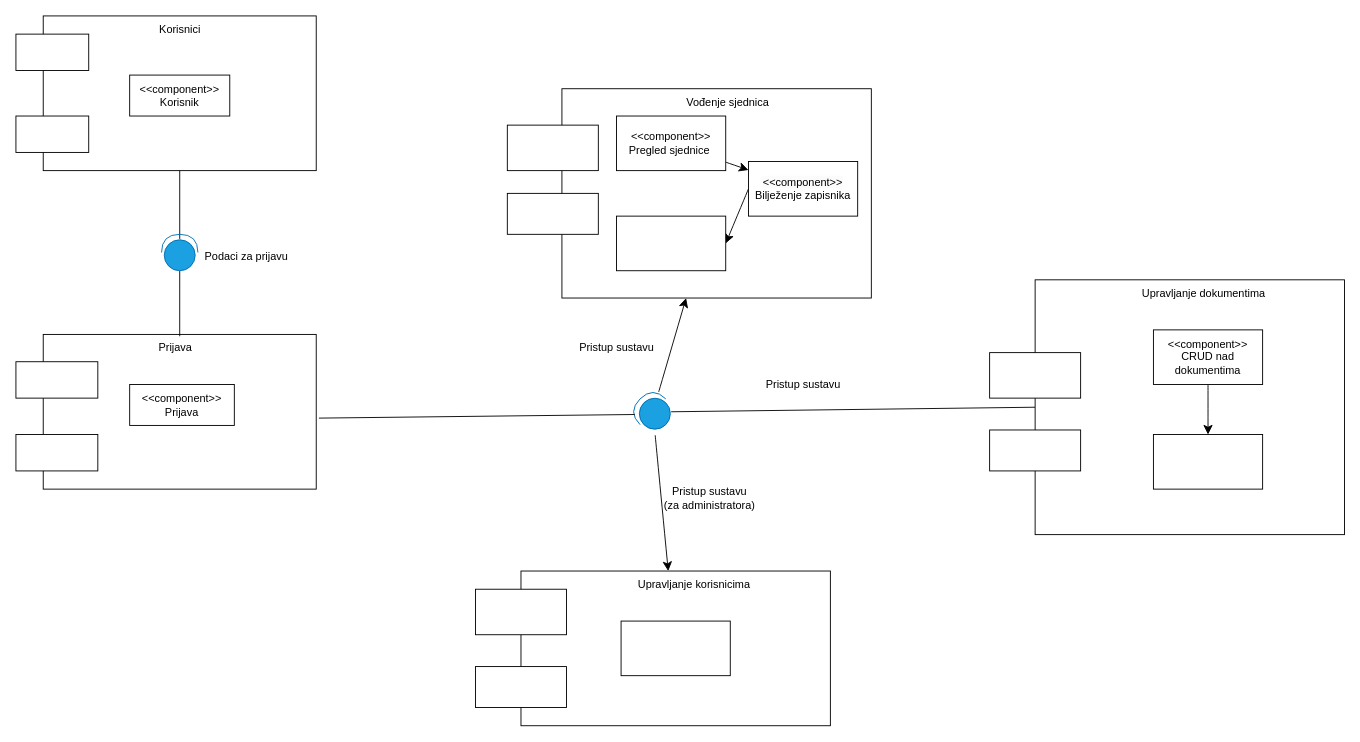
This 1360x742 diagram has some shape labels left out. The shapes that lost their labels are listed below. From the top down, each one's centre as x and y in pixels, then its label:
At point (671, 243): "<<component>> Generiranje izvještaja".
At point (1208, 461): "<<component>> Javni pregled dokumenta".
At point (675, 648): "<<component>> Upravljanje korisnicima".
